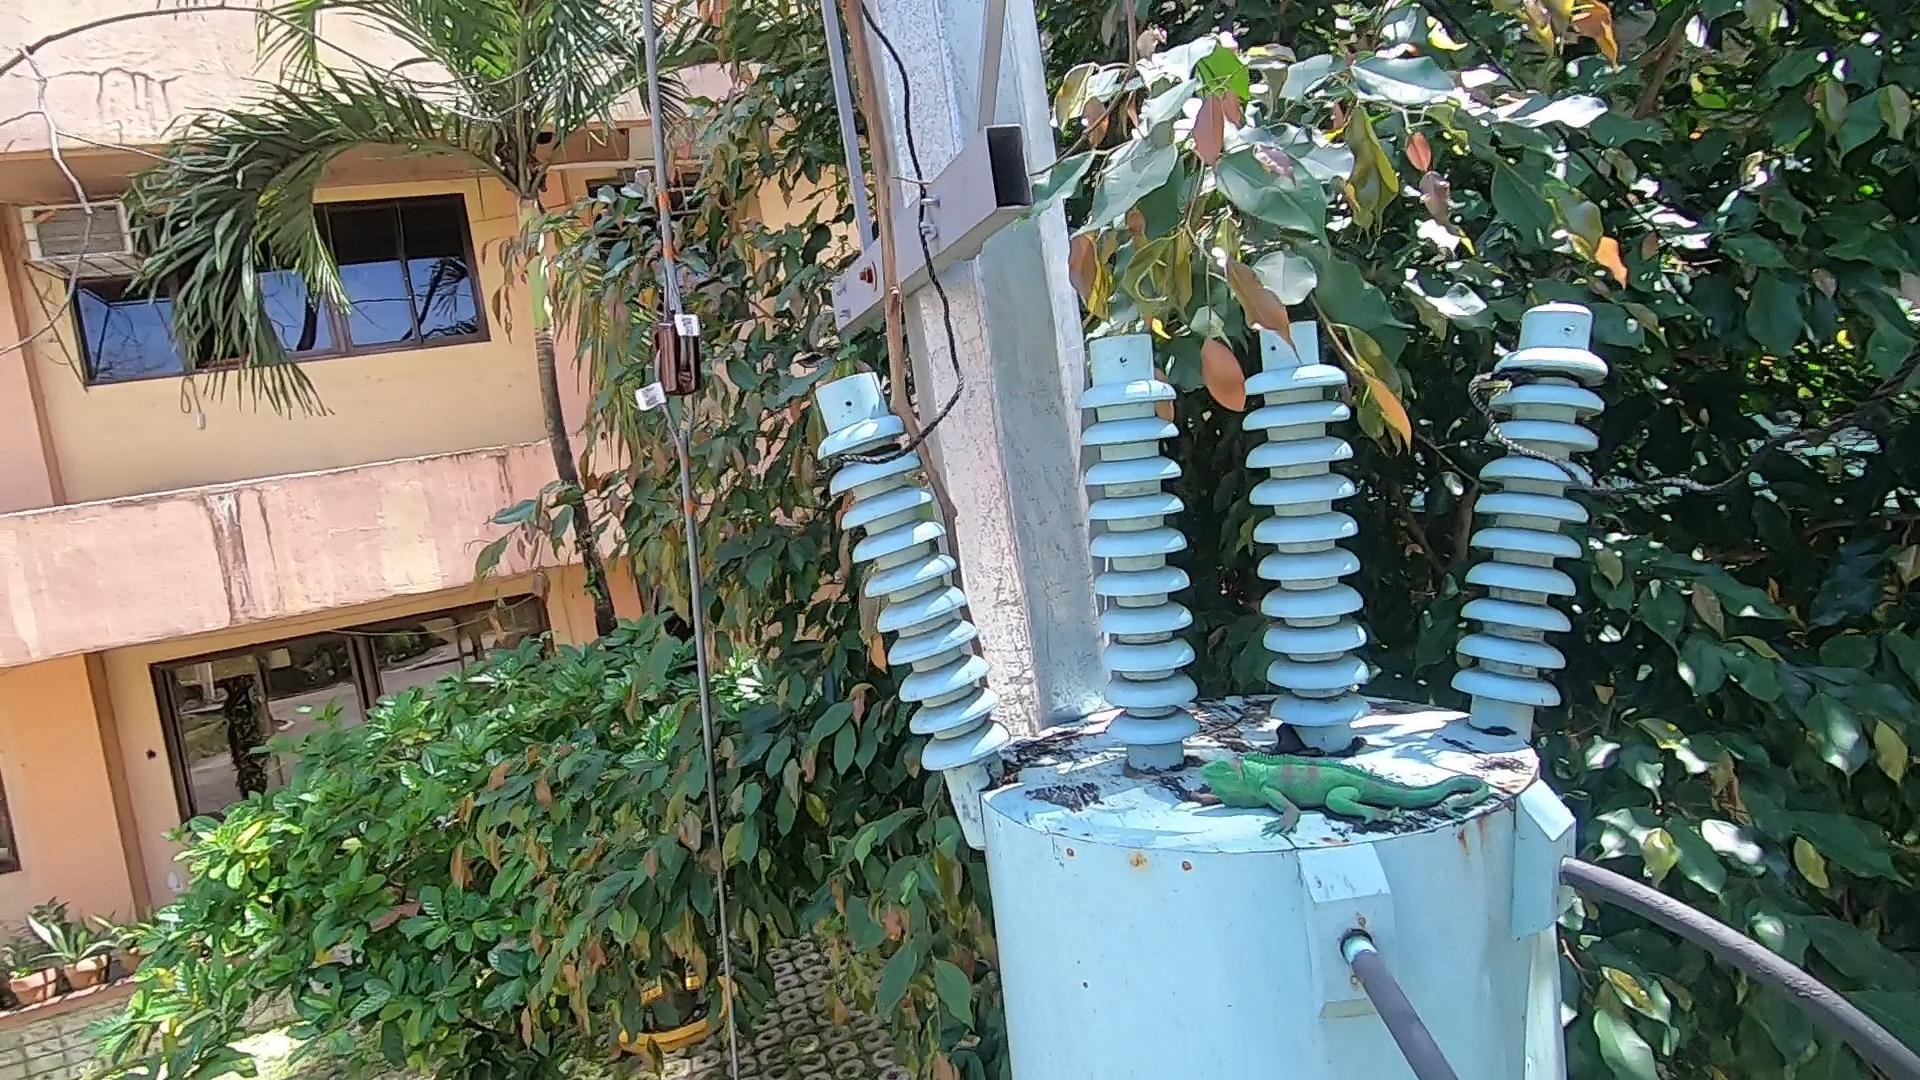branch with leaves: (1127, 202, 1456, 450)
leaf: (1251, 719, 1324, 753), (985, 756, 1040, 800)
tree branch: (796, 3, 997, 671)
